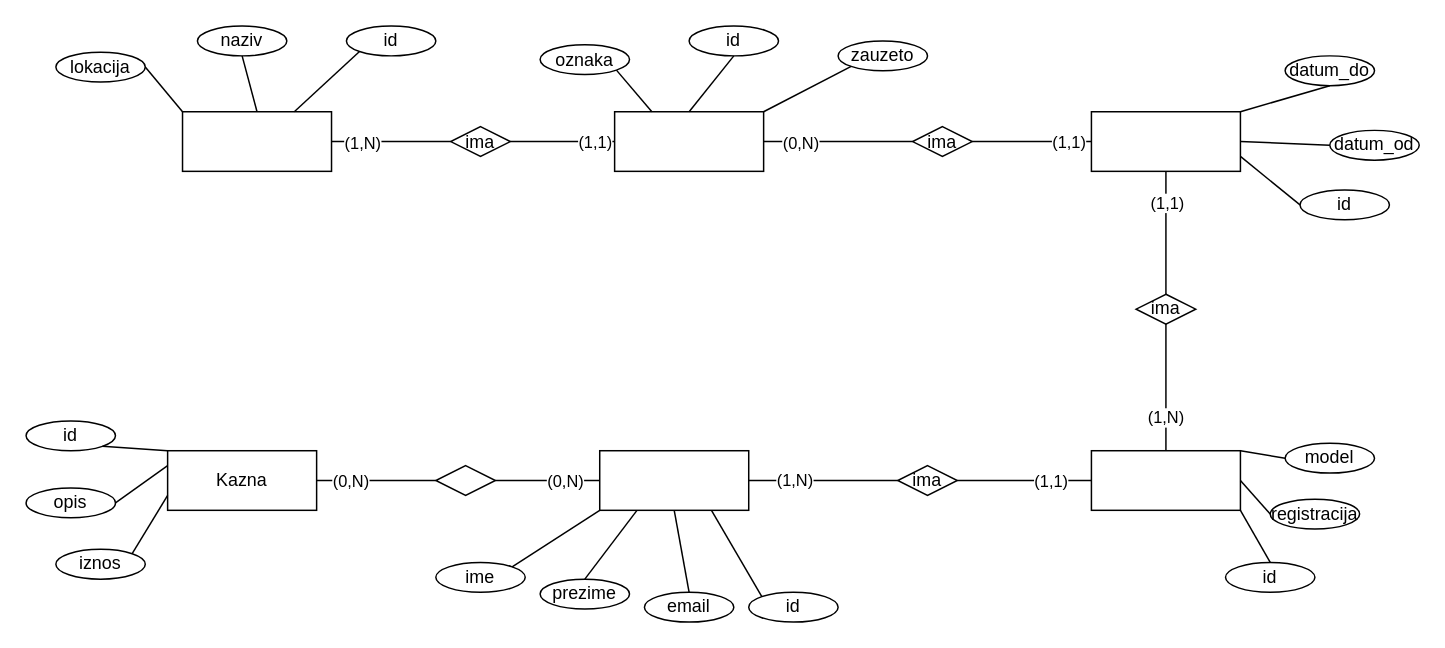
The diagram is 1445 pixels wide and 648 high, and some of its shapes have lost their labels. Here are the shapes that lost their labels. From the top down, the centre of each, then its label:
At (256,140): "Parking".
At (688,140): "ParkingMjesto".
At (1165,140): "Rezervacija".
At (464,479): "dobija".
At (673,479): "Korisnik".
At (1165,479): "Vozilo".
